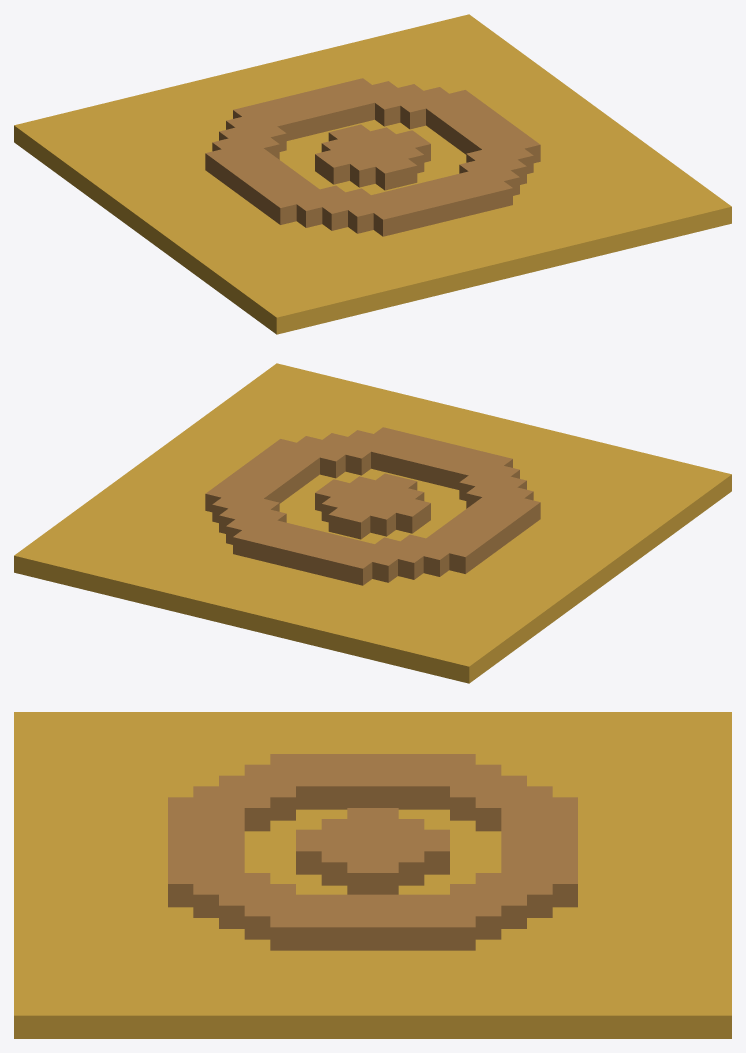
File: condom.glb
3 renders of one model, top to bottom at view 1: azimuth 30°, elevation 25°; view 2: azimuth 150°, elevation 25°; view 3: azimuth 270°, elevation 25°, orthographic. The views are drawn at different scales.
Visible parts, largest first — view 1: condom:compound; view 2: condom:compound; view 3: condom:compound.
Boxes of the visible parts, x1,y1,x2,y2 form: condom:compound: (14, 14, 731, 334); condom:compound: (14, 363, 731, 683); condom:compound: (14, 712, 731, 1038).
Size of the model in its own units: 0.056 by 0.004 by 0.056.
